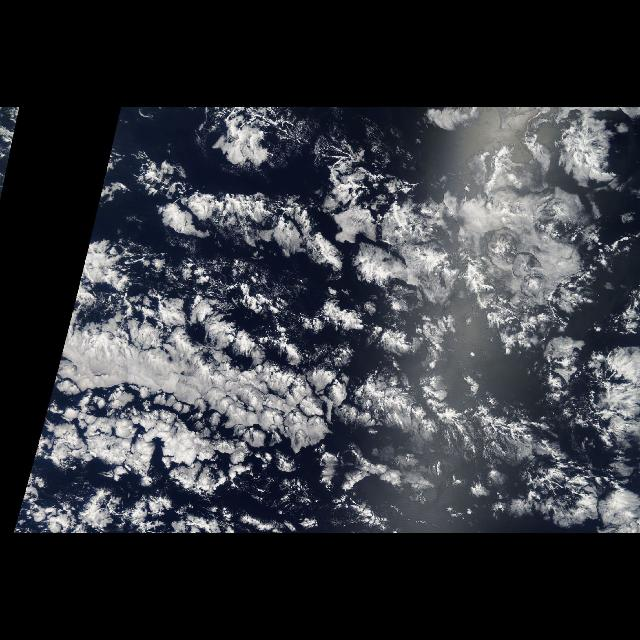Flower: (210, 245, 588, 447)
